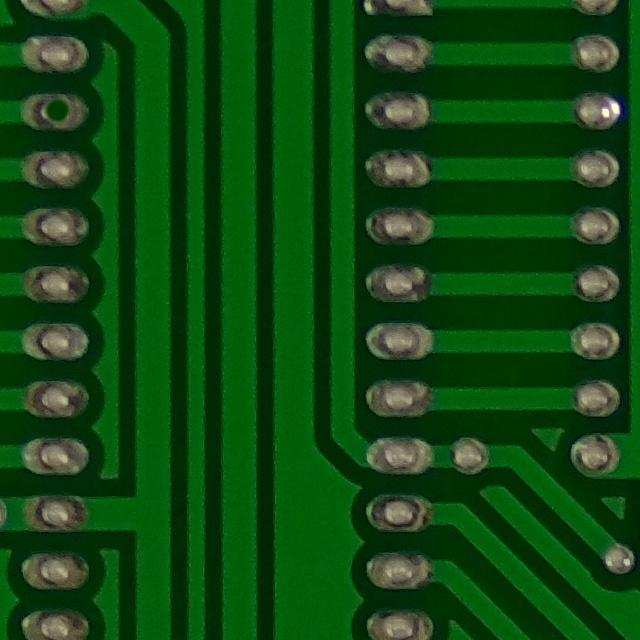missing_hole: (30, 81, 83, 138)
